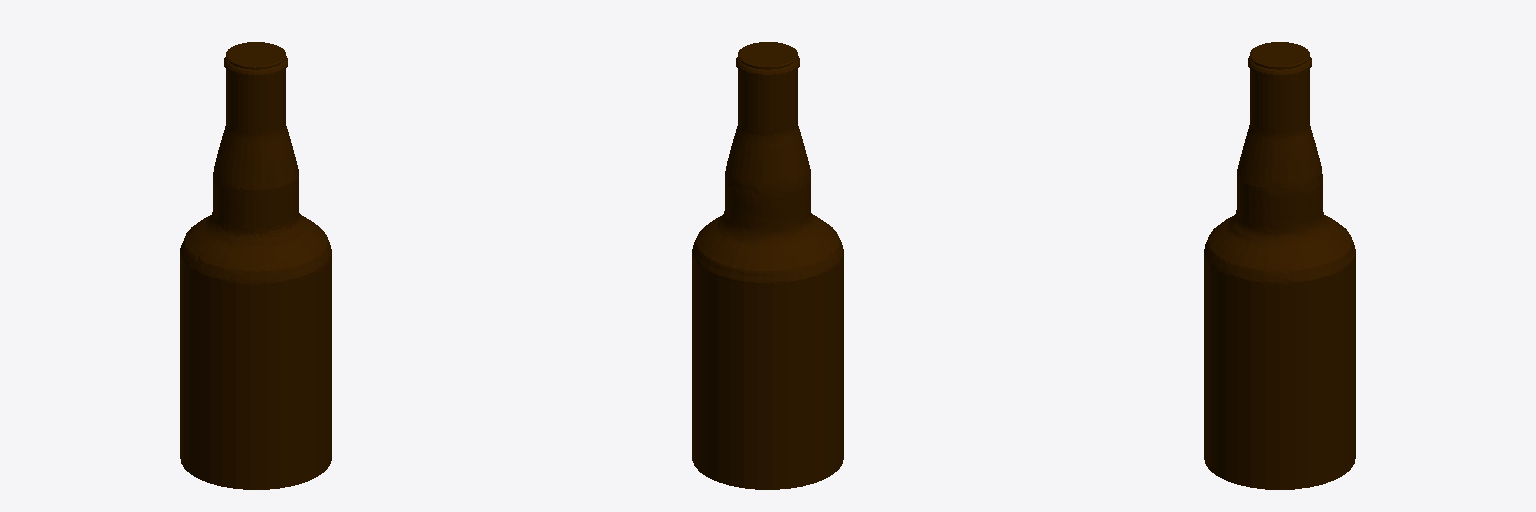
File: Beer.obj
The picture shows the model from 3 angles: view 1: azimuth 30°, elevation 25°; view 2: azimuth 150°, elevation 25°; view 3: azimuth 270°, elevation 25°; orthographic projection.
Visible parts, largest first — view 1: Beer_Cylinder; view 2: Beer_Cylinder; view 3: Beer_Cylinder.
Boxes of the visible parts, <box> form: Beer_Cylinder: <box>180,42,331,489</box>; Beer_Cylinder: <box>692,42,843,489</box>; Beer_Cylinder: <box>1204,42,1355,489</box>.
Bounding box in the file's own units: 2 × 5.87 × 2.